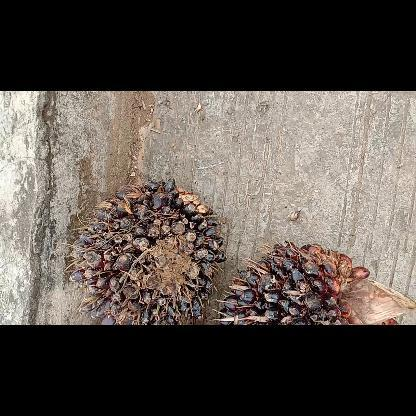TBS mentah: (68, 177, 230, 323), (214, 236, 416, 324)
